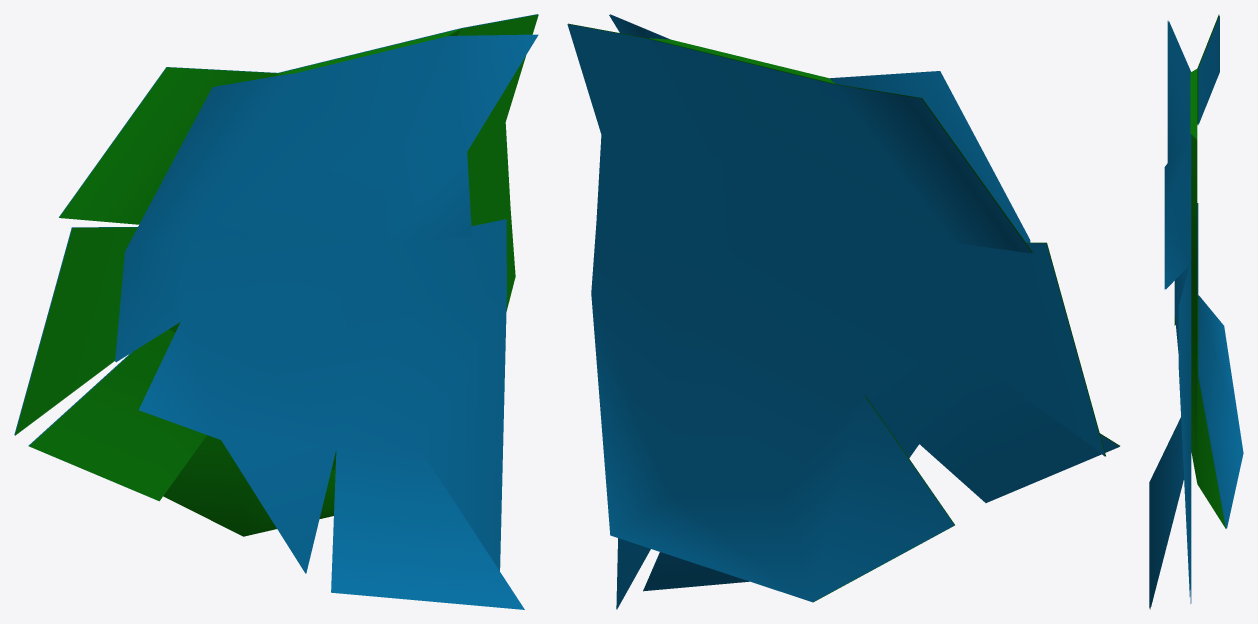
Rendered from DBK_Drywall_Prop_Mid_E.fbx.
3 renders of one model, left to right at view 1: azimuth 30°, elevation 25°; view 2: azimuth 150°, elevation 25°; view 3: azimuth 270°, elevation 25°, orthographic. The views are drawn at different scales.
Visible parts, largest first — view 1: DBK_Drywall_Prop_Mid_E; view 2: DBK_Drywall_Prop_Mid_E; view 3: DBK_Drywall_Prop_Mid_E.
Part boxes in pixels (x1=…): DBK_Drywall_Prop_Mid_E: x1=14, y1=14, x2=538, y2=609; DBK_Drywall_Prop_Mid_E: x1=567, y1=14, x2=1119, y2=609; DBK_Drywall_Prop_Mid_E: x1=1149, y1=14, x2=1243, y2=609.
Size of what is drawn, in the model's own units: 146 by 156 by 28.21.
